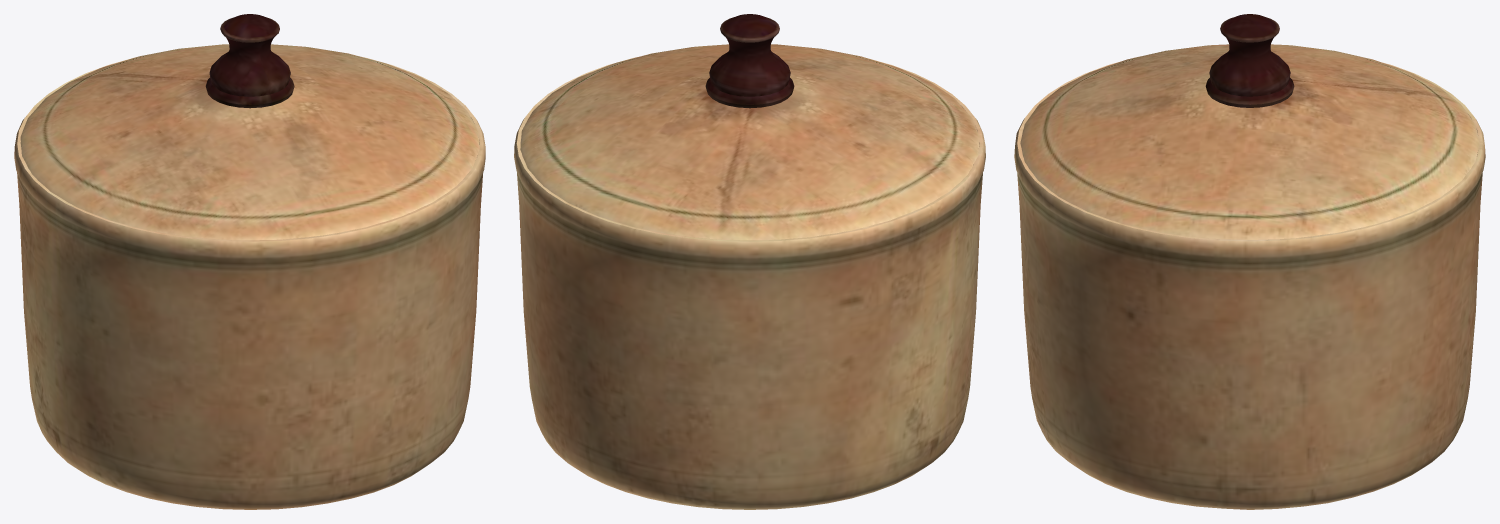
Rendered from pot-brass.glb.
3 renders of one model, left to right at view 1: azimuth 30°, elevation 25°; view 2: azimuth 150°, elevation 25°; view 3: azimuth 270°, elevation 25°, orthographic.
Parts seen in each view (by area): view 1: pot-brass; view 2: pot-brass; view 3: pot-brass.
Boxes of the visible parts, x1,y1,x2,y2 form: pot-brass: (14, 14, 485, 509); pot-brass: (514, 14, 985, 509); pot-brass: (1014, 14, 1485, 509).
Bounding box in the file's own units: 0.3017 × 0.2909 × 0.3019.
Materials: 1 (1 with a texture image).
